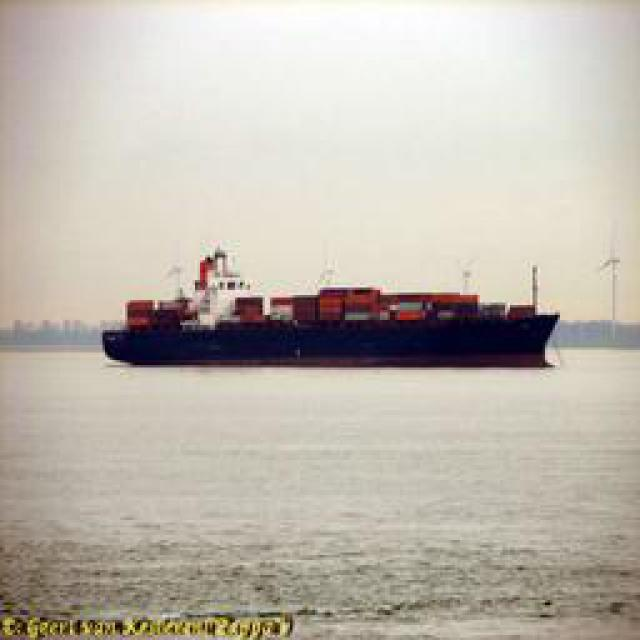Ship: (111, 240, 564, 370)
